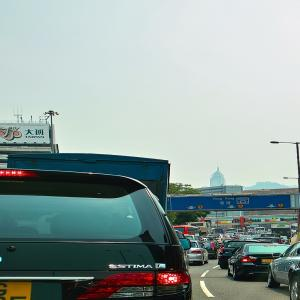Vehicle-registration-plate: (1, 281, 31, 300), (263, 260, 275, 264)
